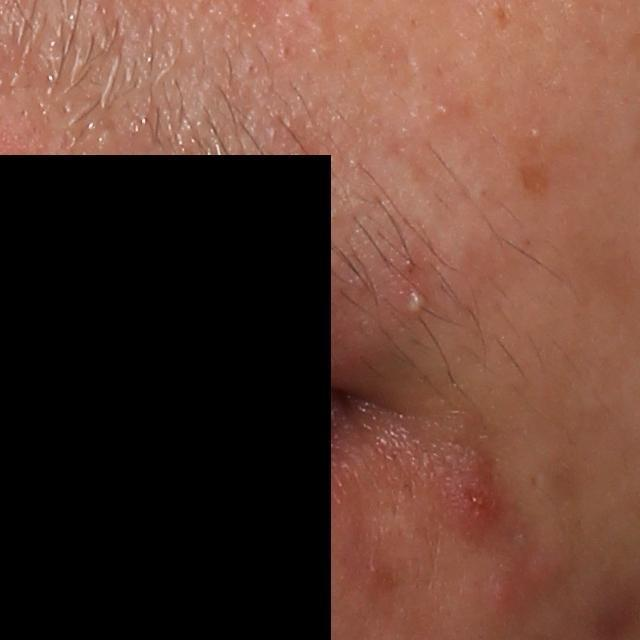papule: (440, 464, 505, 538)
pustule: (401, 275, 432, 319)
